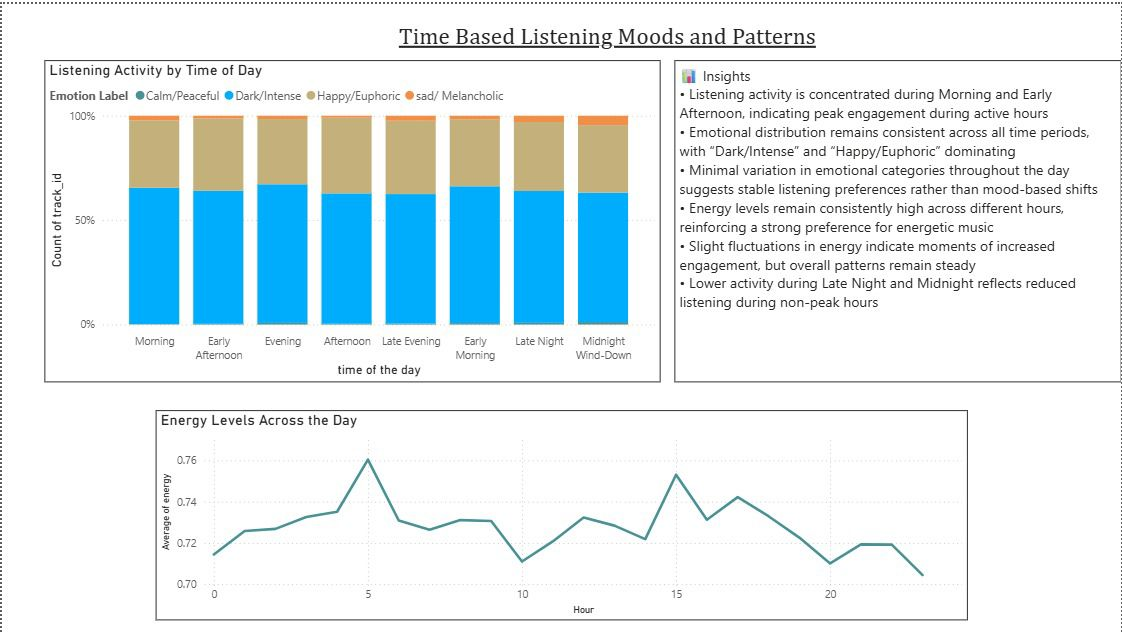

What the dashboard file says about the page in this screenshot:
{"tool":"powerbi","page":{"name":"Time Based Listening Moods and Patterns","canvas":[1280,720],"ordinal":1},"visuals":[{"type":"hundredPercentStackedColumnChart","title":"Listening Activity by Time of Day","fields":{"Category":["emotionanalysis.time of the day"],"Y":["CountNonNull(emotionanalysis.track_id)"],"Series":["emotionanalysis.Emotion Label"]},"box":[48,64,704,368],"z":0},{"type":"lineChart","title":"Energy Levels Across the Day","fields":{"Category":["emotionanalysis.Hour"],"Y":["Avg(emotionanalysis.energy)"]},"box":[176,464,928,240],"z":1000},{"type":"textbox","box":[448,16,528,48],"z":2000},{"type":"textbox","box":[768,64,512,368],"z":3000}]}

Visuals, with their boxes in screenshot pixels (x1, y1, x2, y2), scaled from the page's 1280x720 canvas onto the 1122x633 screenshot:
"Listening Activity by Time of Day" hundredPercentStackedColumnChart: [x1=42, y1=56, x2=659, y2=380]
"Energy Levels Across the Day" lineChart: [x1=154, y1=408, x2=968, y2=619]
textbox: [x1=393, y1=14, x2=856, y2=56]
textbox: [x1=673, y1=56, x2=1121, y2=380]
